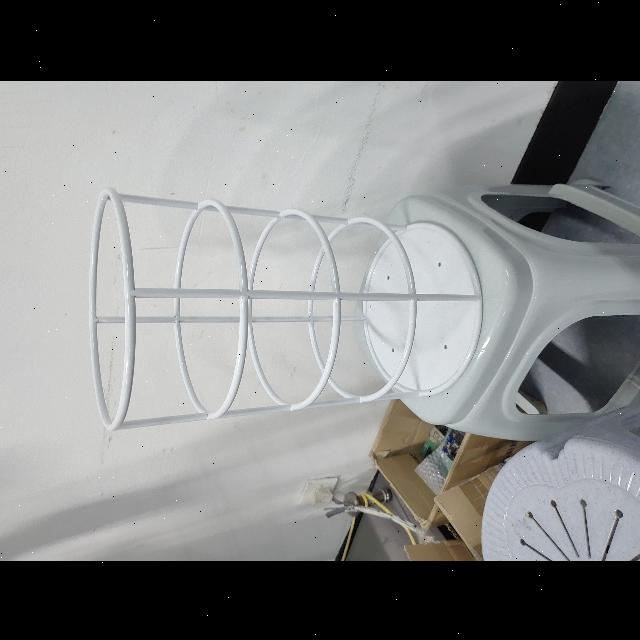S: (84, 184, 488, 436)
